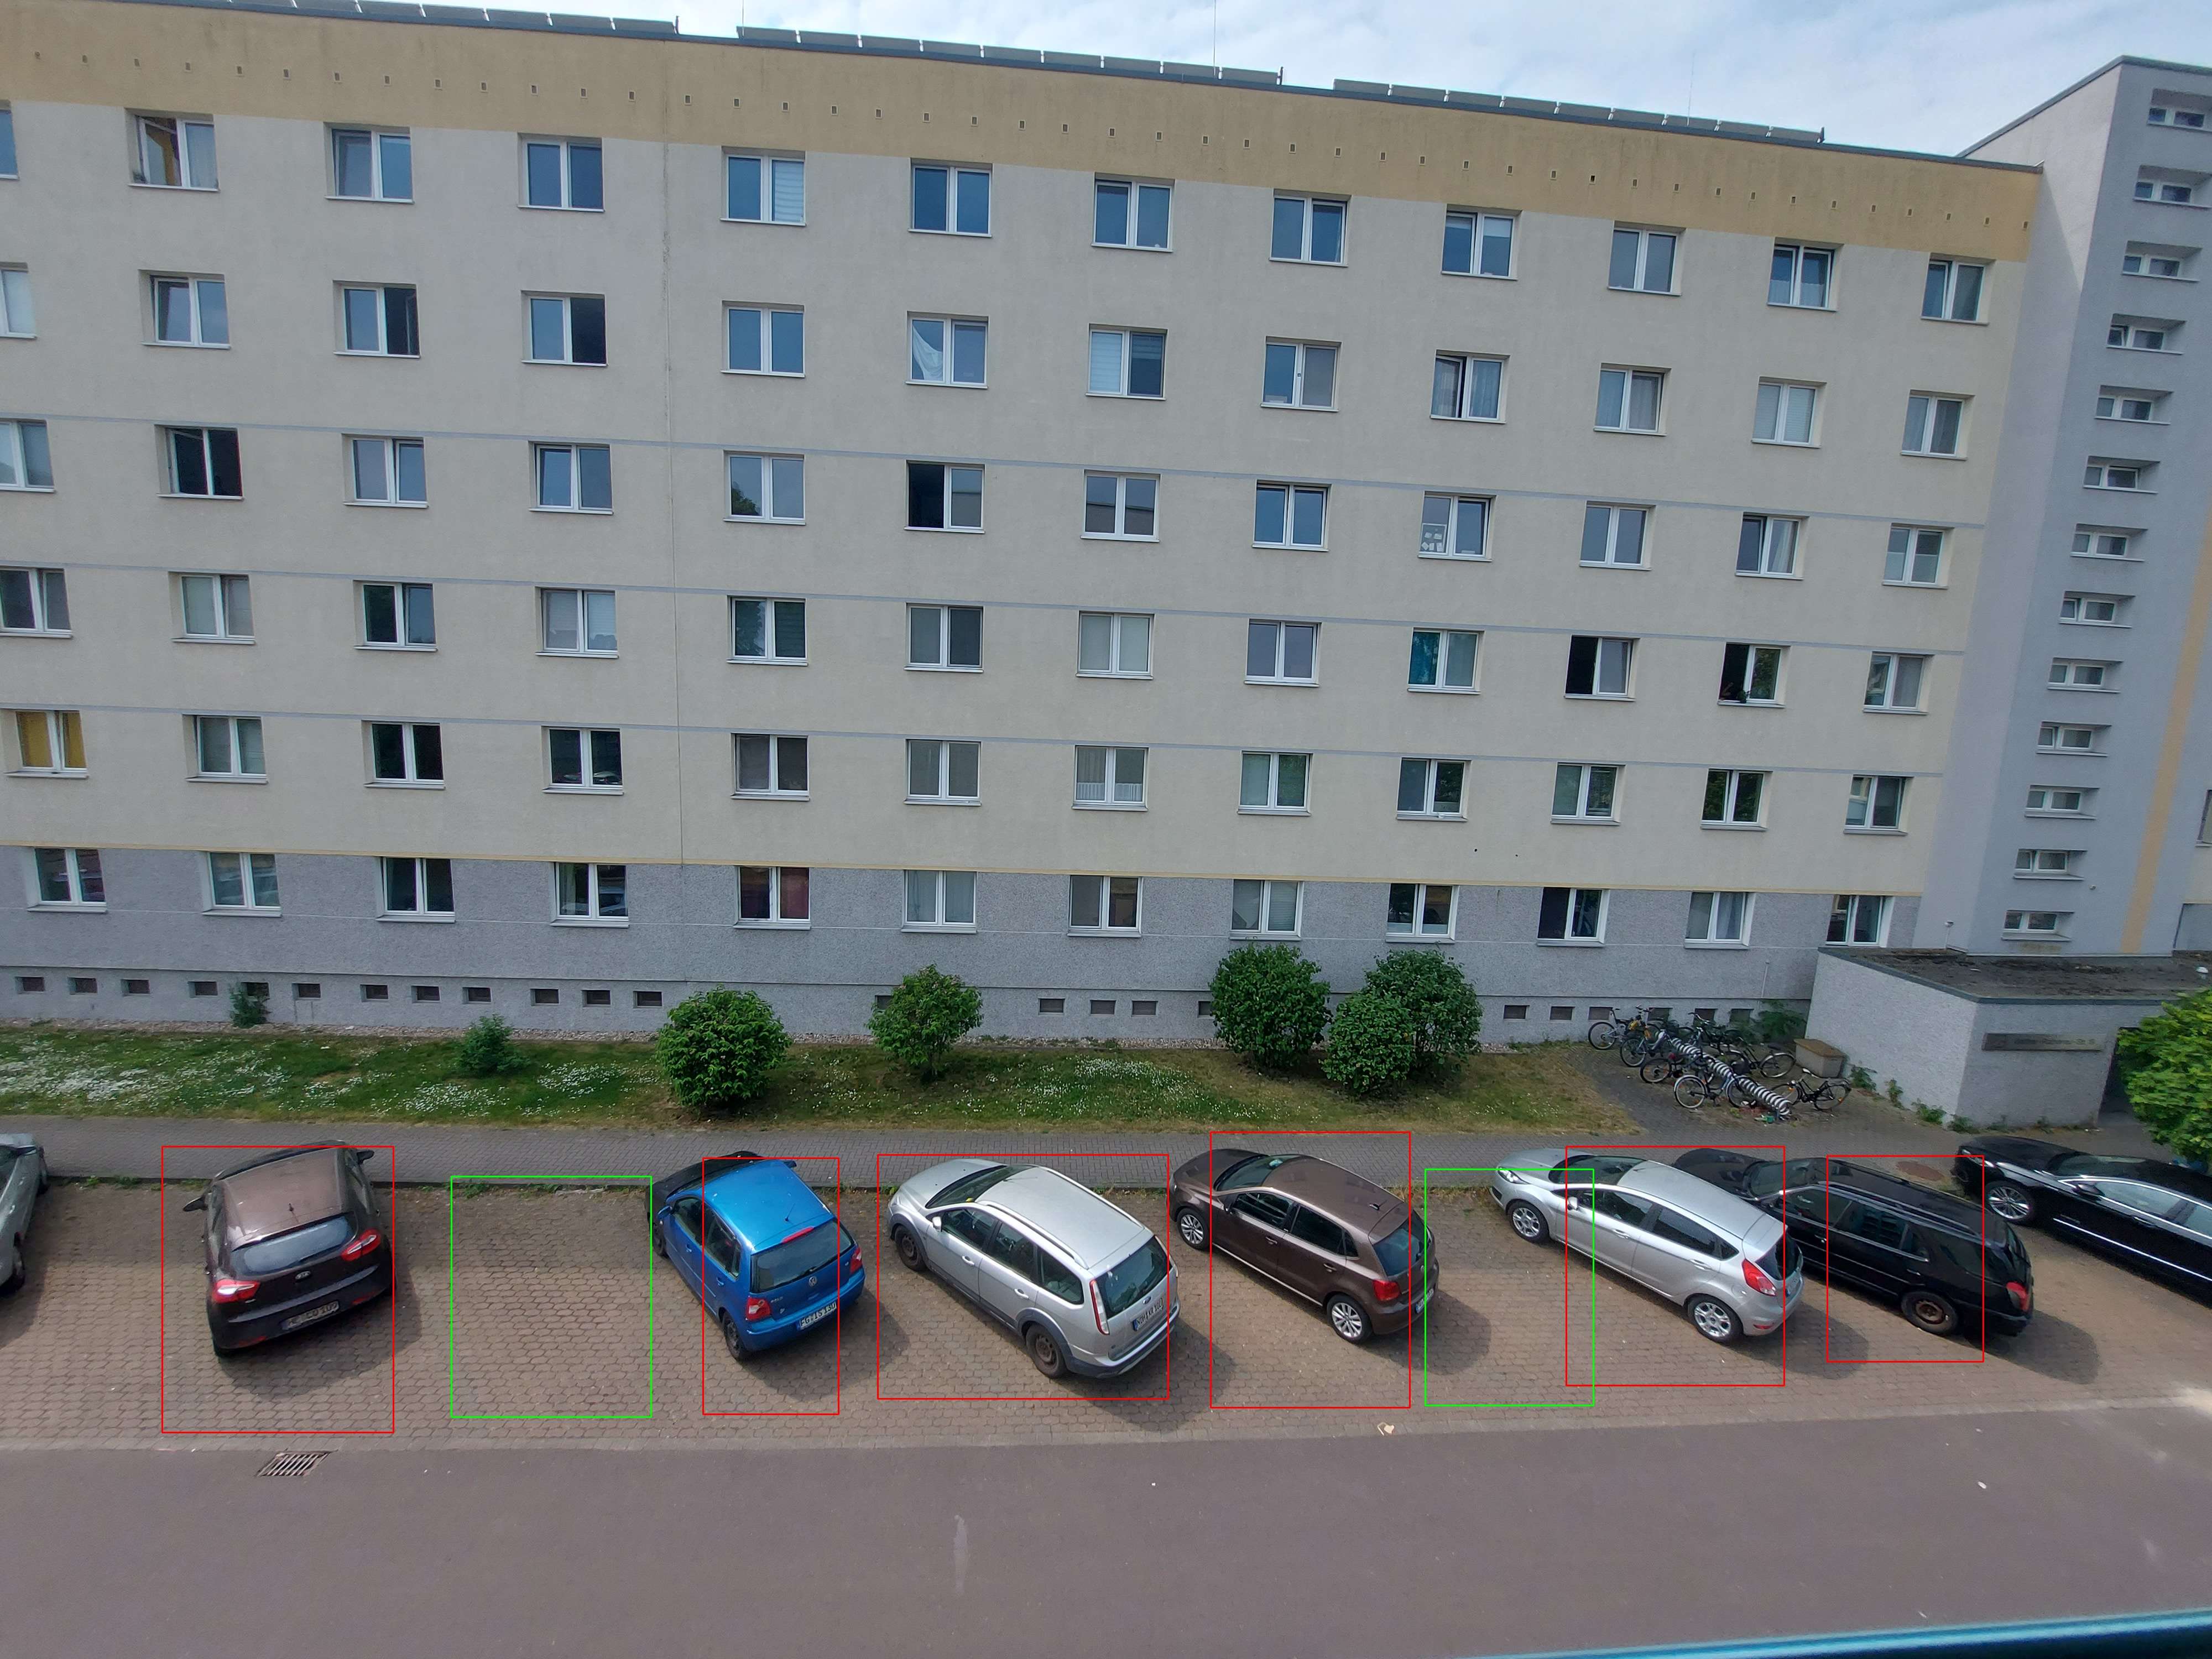spot: (878, 1155, 1169, 1399), (162, 1147, 394, 1432), (1211, 1133, 1409, 1408), (1566, 1147, 1784, 1385), (451, 1176, 651, 1417), (1425, 1169, 1594, 1405), (704, 1157, 838, 1413), (1827, 1155, 1984, 1361)
